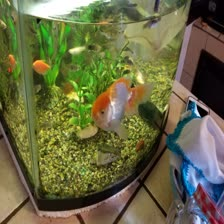Cuezo: (90, 71, 155, 135)
Guppy: (68, 39, 102, 55)
Plano: (32, 57, 49, 73)
